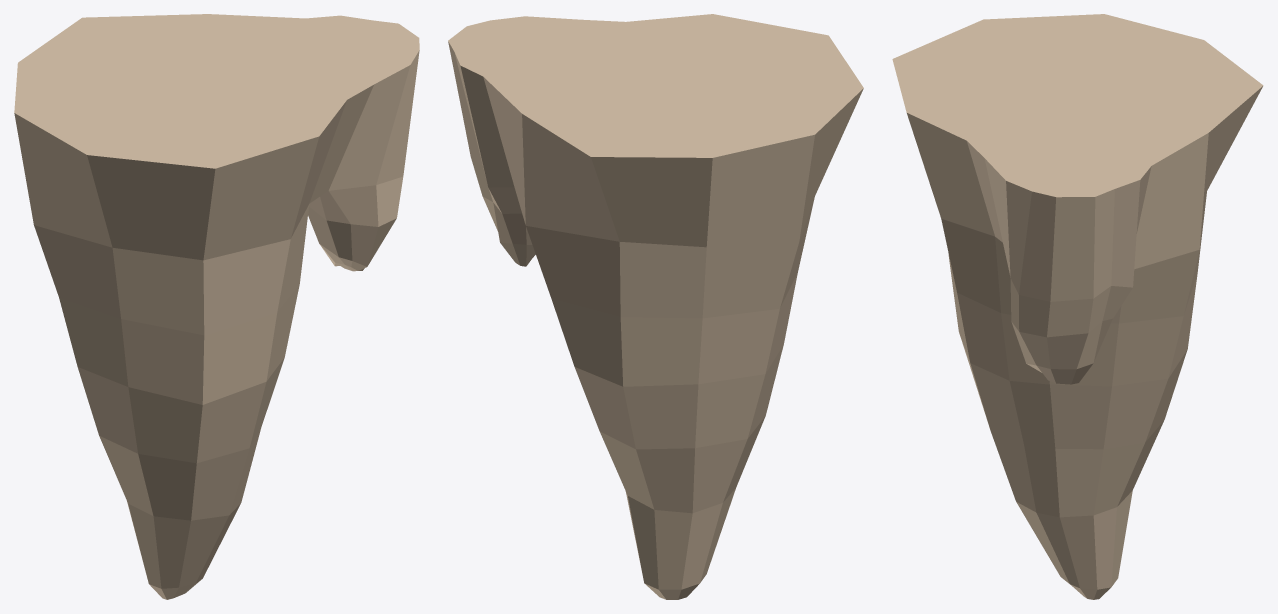
File: Stalagtite_1.fbx
3 renders of one model, left to right at view 1: azimuth 30°, elevation 25°; view 2: azimuth 150°, elevation 25°; view 3: azimuth 270°, elevation 25°, orthographic. The views are drawn at different scales.
Visible parts, largest first — view 1: Stalagtite_1; view 2: Stalagtite_1; view 3: Stalagtite_1.
Part boxes in pixels (x1,y1,x2,y2): Stalagtite_1: (14, 14, 419, 599); Stalagtite_1: (448, 14, 863, 599); Stalagtite_1: (892, 14, 1263, 599).
Bounding box in the file's own units: 325 × 420 × 279.
